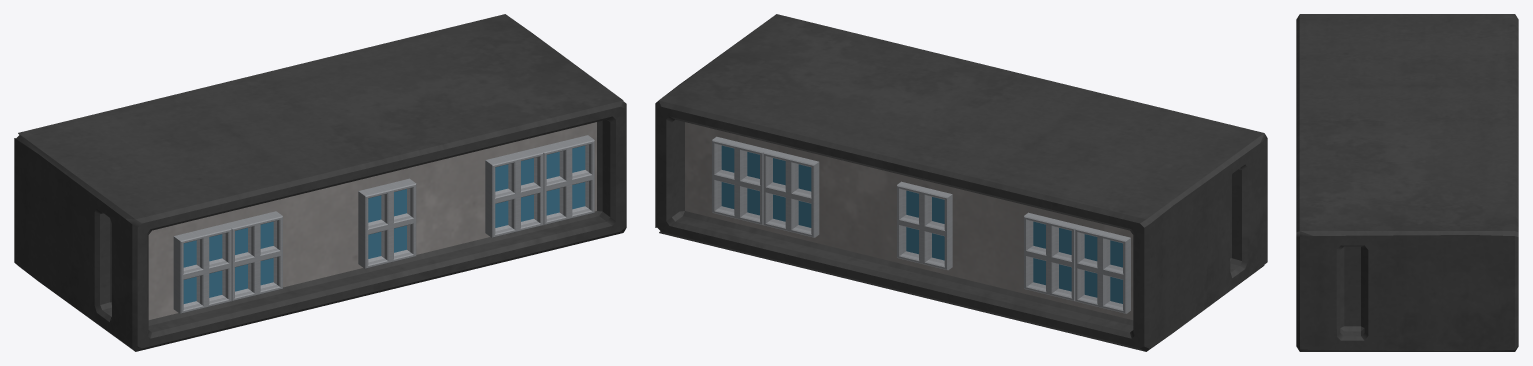
Rendered from Shortbuilding.fbx.
3 views of the same model, side by side, from view 1: azimuth 30°, elevation 25°; view 2: azimuth 150°, elevation 25°; view 3: azimuth 270°, elevation 25° (orthographic). The views are drawn at different scales.
Visible parts, largest first — view 1: pCube3, pCube24, pCube20, pCube21, pCube23, pCube22; view 2: pCube3, pCube16, pCube15, pCube18, pCube19, pCube17; view 3: pCube3.
Part boxes in pixels (x1,y1,x2,y2): pCube3: [14, 14, 626, 351]; pCube24: [173, 223, 231, 313]; pCube20: [358, 178, 416, 268]; pCube21: [485, 147, 543, 237]; pCube23: [225, 211, 282, 301]; pCube22: [537, 135, 594, 225]; pCube3: [655, 14, 1267, 351]; pCube16: [763, 149, 819, 237]; pCube15: [897, 181, 952, 270]; pCube18: [1075, 225, 1130, 313]; pCube19: [1024, 212, 1079, 301]; pCube17: [712, 136, 767, 225]; pCube3: [1296, 14, 1518, 351].
Size of the model in its own units: 9.47 by 2.43 by 4.05.
